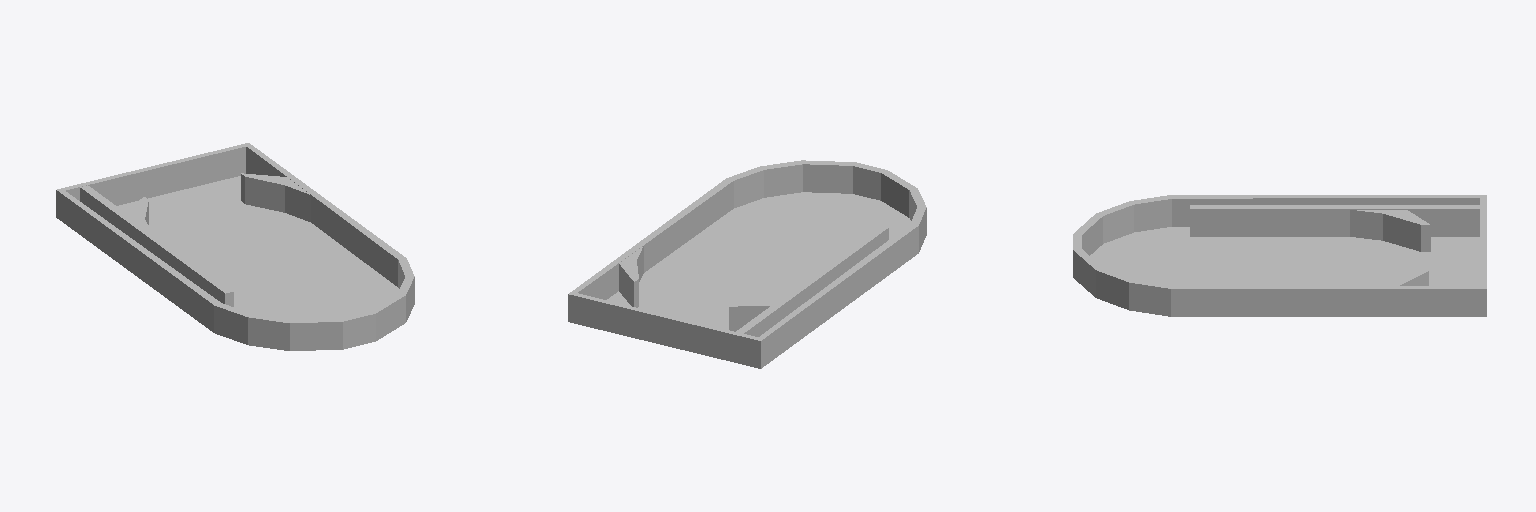
The model's file is board.obj.
3 renders of one model, left to right at view 1: azimuth 30°, elevation 25°; view 2: azimuth 150°, elevation 25°; view 3: azimuth 270°, elevation 25°, orthographic.
Parts seen in each view (by area): view 1: Cube.002; view 2: Cube.002; view 3: Cube.002.
Part boxes in pixels (left/top/right/bottom): Cube.002: left=56, top=143, right=414, bottom=350; Cube.002: left=568, top=160, right=926, bottom=368; Cube.002: left=1073, top=195, right=1486, bottom=316.
Size of the model in its own units: 14.32 by 2 by 26.66.